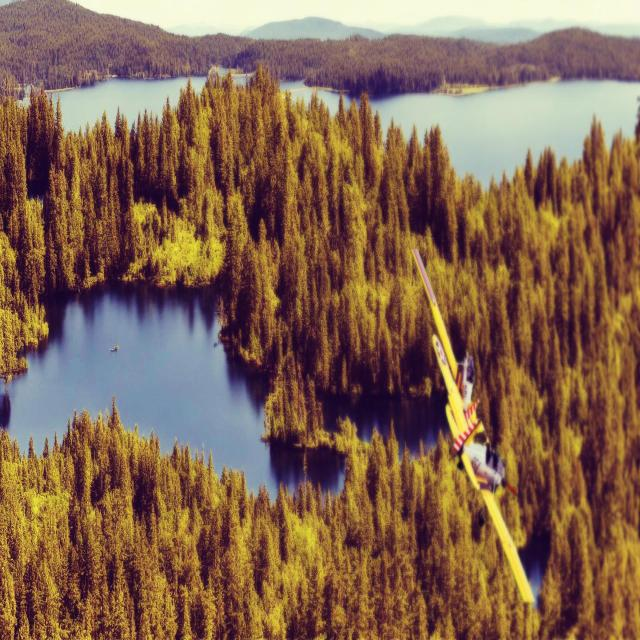airplane: (411, 246, 535, 604)
